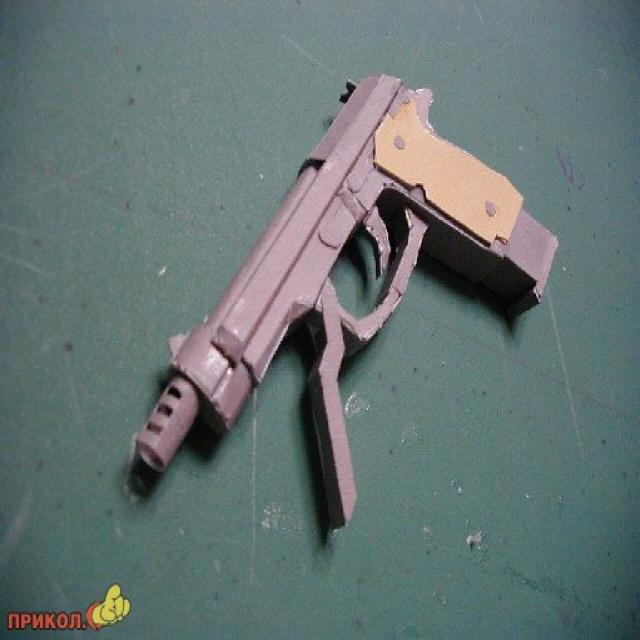pistol: (131, 70, 561, 537)
